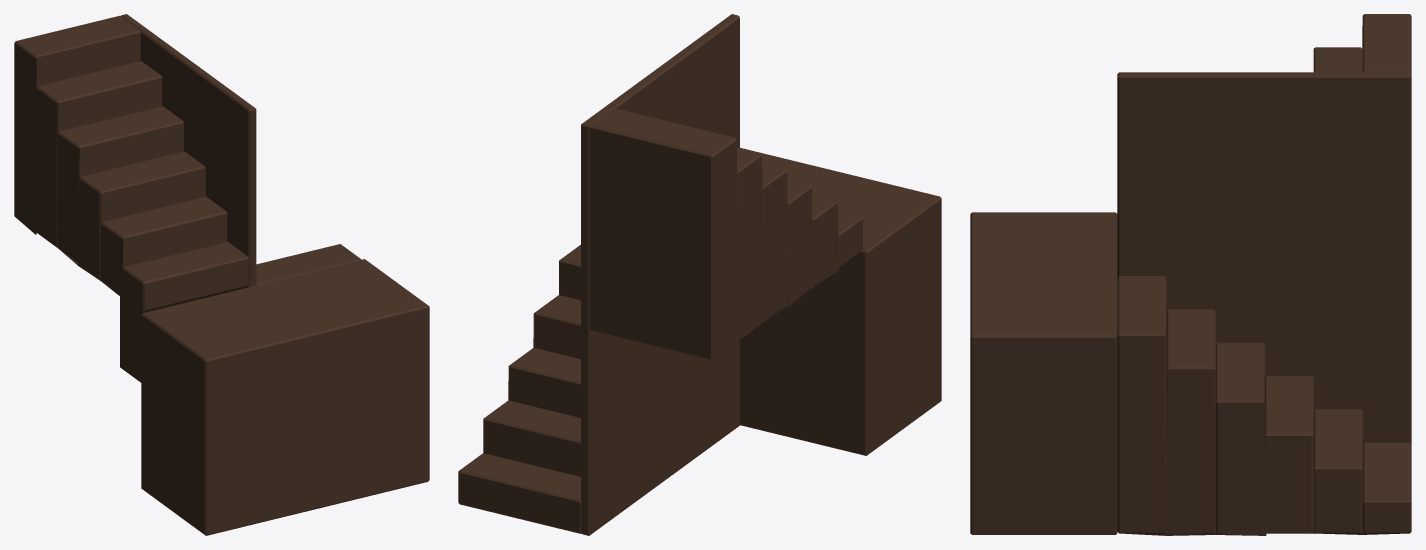
File: stairs_switchback.fbx
3 renders of one model, left to right at view 1: azimuth 30°, elevation 25°; view 2: azimuth 150°, elevation 25°; view 3: azimuth 270°, elevation 25°, orthographic. The views are drawn at different scales.
Visible parts, largest first — view 1: stairs_switchback; view 2: stairs_switchback; view 3: stairs_switchback.
Part boxes in pixels (box(x1,y1,x2,y2)): stairs_switchback: box(14, 14, 429, 535); stairs_switchback: box(458, 14, 941, 535); stairs_switchback: box(970, 14, 1411, 535).
Size of the model in its own units: 800 by 1205 by 1200.
